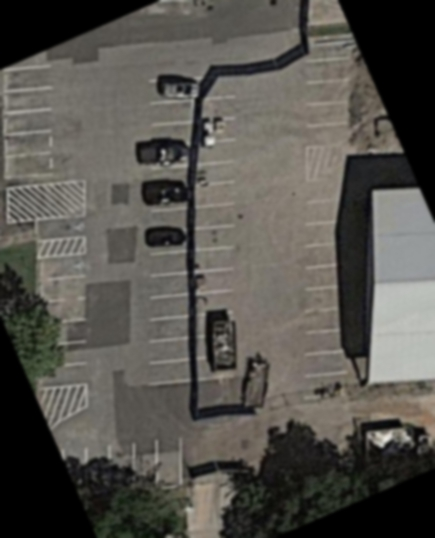parkingspot: (145, 76, 199, 389), (300, 196, 358, 401), (193, 138, 241, 319), (60, 436, 185, 495), (38, 254, 91, 391), (0, 62, 59, 184), (303, 56, 358, 150), (35, 213, 90, 243), (198, 94, 241, 124)
